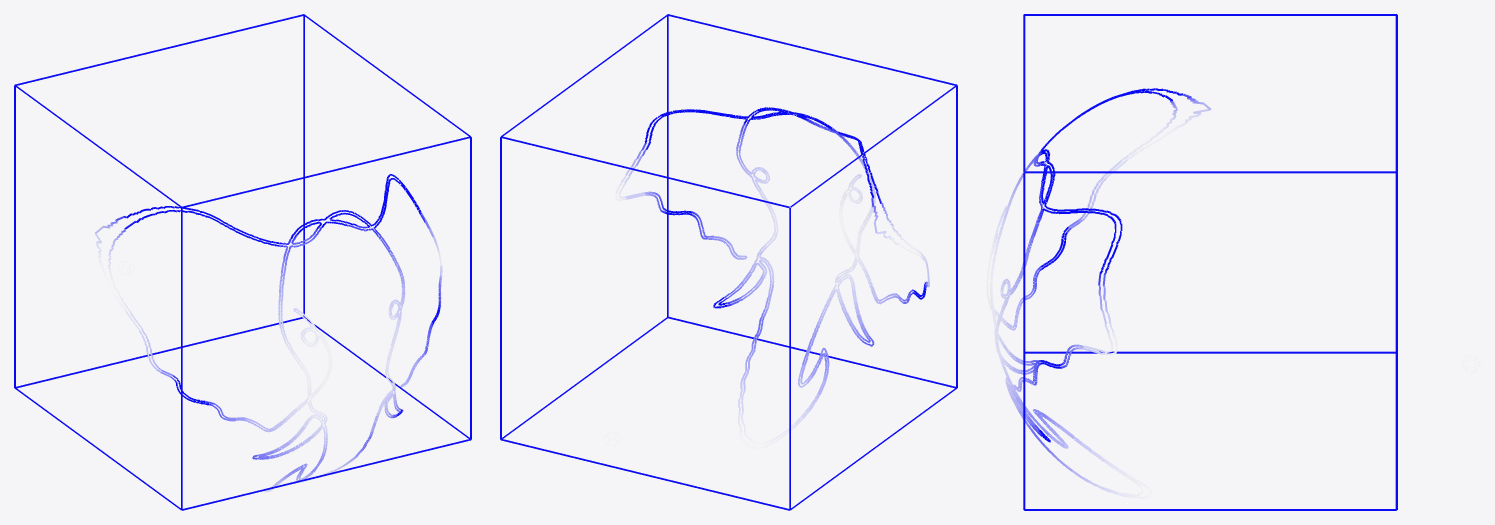
3 views of the same model, side by side, from view 1: azimuth 30°, elevation 25°; view 2: azimuth 150°, elevation 25°; view 3: azimuth 270°, elevation 25° (orthographic). The views are drawn at different scales.
Size of the model in its own units: 1.09 by 1.18 by 1.33.
